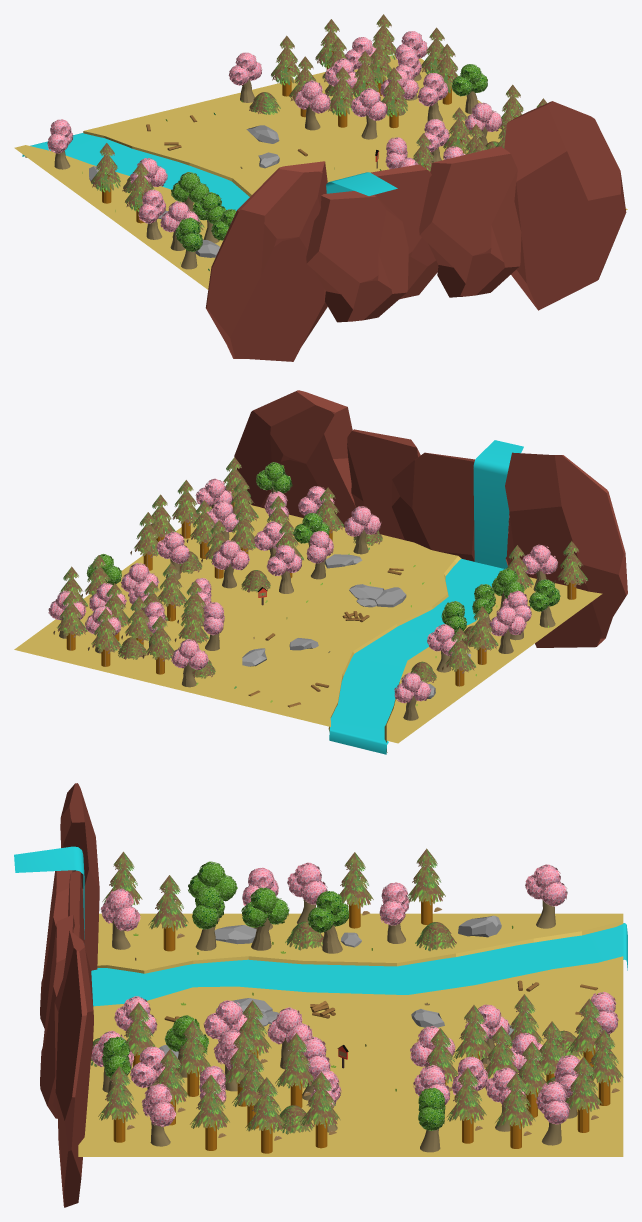
File: New_RiverSide.fbx
3 renders of one model, top to bottom at view 1: azimuth 30°, elevation 25°; view 2: azimuth 150°, elevation 25°; view 3: azimuth 270°, elevation 25°, orthographic. The views are drawn at different scales.
Visible parts, largest first — view 1: Red_Rock, SE03_floor, tree_FHE.005, Tree_SE03, river_SE03, tree_FHE.006, Forest_SE03; view 2: SE03_floor, Red_Rock, Tree_SE03, tree_FHE.005, river_SE03, tree_FHE.006, Forest_SE03, Rock_SE03.002; view 3: SE03_floor, Tree_SE03, tree_FHE.005, river_SE03, Red_Rock, tree_FHE.006, Forest_SE03, Rock_SE03.005, Rock_SE03.001.
Part boxes in pixels (<box>): Red_Rock: <box>205,101,626,361</box>; SE03_floor: <box>14,55,627,289</box>; tree_FHE.005: <box>47,31,502,250</box>; Tree_SE03: <box>91,14,546,223</box>; river_SE03: <box>22,133,397,210</box>; tree_FHE.006: <box>171,64,487,269</box>; Forest_SE03: <box>122,85,498,232</box>; SE03_floor: <box>14,504,602,752</box>; Red_Rock: <box>234,390,627,647</box>; Tree_SE03: <box>53,457,587,686</box>; tree_FHE.005: <box>48,478,558,720</box>; river_SE03: <box>329,440,523,754</box>; tree_FHE.006: <box>86,462,560,633</box>; Forest_SE03: <box>118,531,487,683</box>; Rock_SE03.002: <box>349,584,406,607</box>; SE03_floor: <box>78,913,623,1156</box>; Tree_SE03: <box>98,848,623,1153</box>; tree_FHE.005: <box>91,862,618,1146</box>; river_SE03: <box>14,846,627,1006</box>; Red_Rock: <box>40,783,99,1207</box>; tree_FHE.006: <box>102,861,445,1152</box>; Forest_SE03: <box>90,921,583,1134</box>; Rock_SE03.005: <box>458,915,501,937</box>; Rock_SE03.001: <box>214,925,256,944</box>.
Bounding box in the file's own units: 4278 × 1923 × 4252.
Materials: 14 (9 with a texture image).
